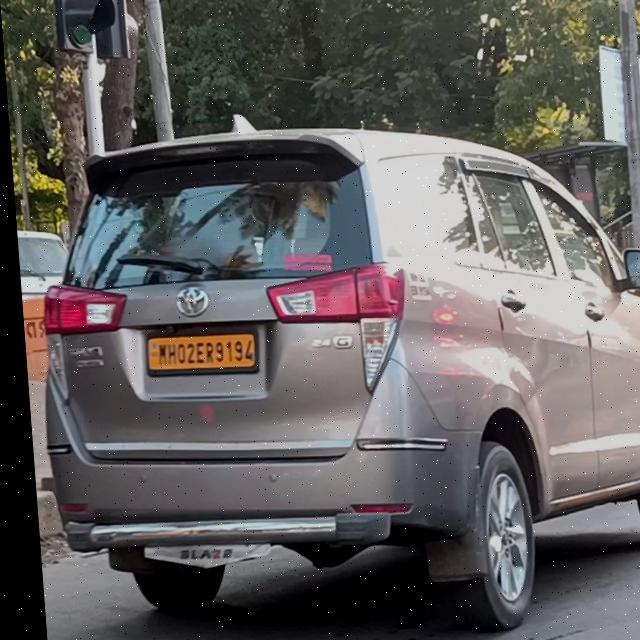plate: (138, 333, 255, 374)
